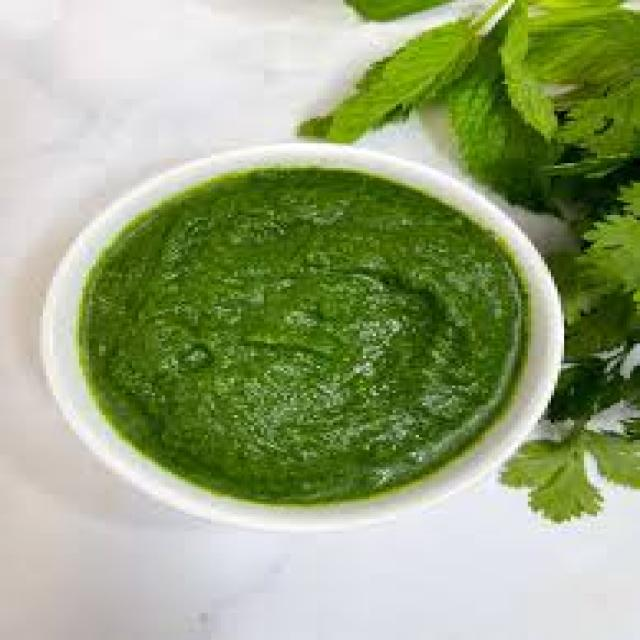GREEN CHUTNEY: (67, 151, 544, 492)
